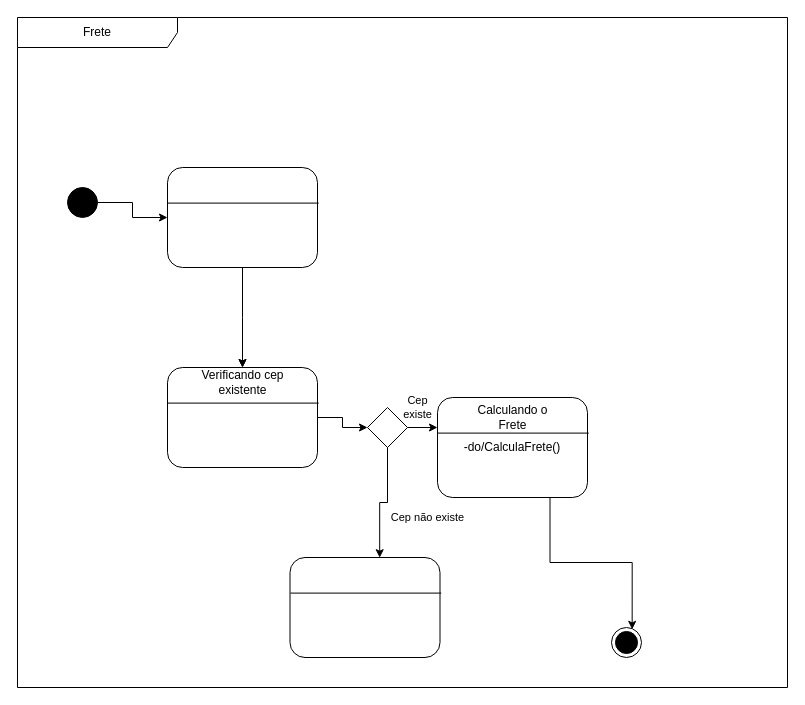
Image size: 805x705. Some labels were removed from this diagram. Each missing label, with the centre of its shape:
Cep inválido: the point at 364,607
Inserindo o cep: the point at 242,217
